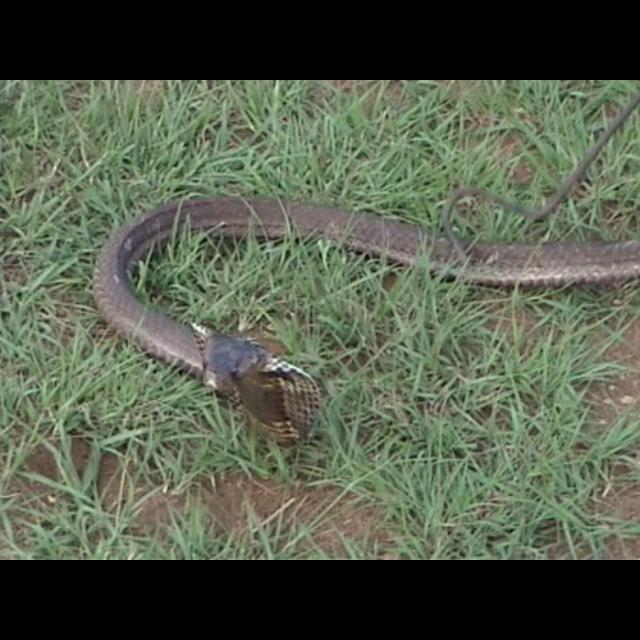snake: (86, 180, 640, 468)
